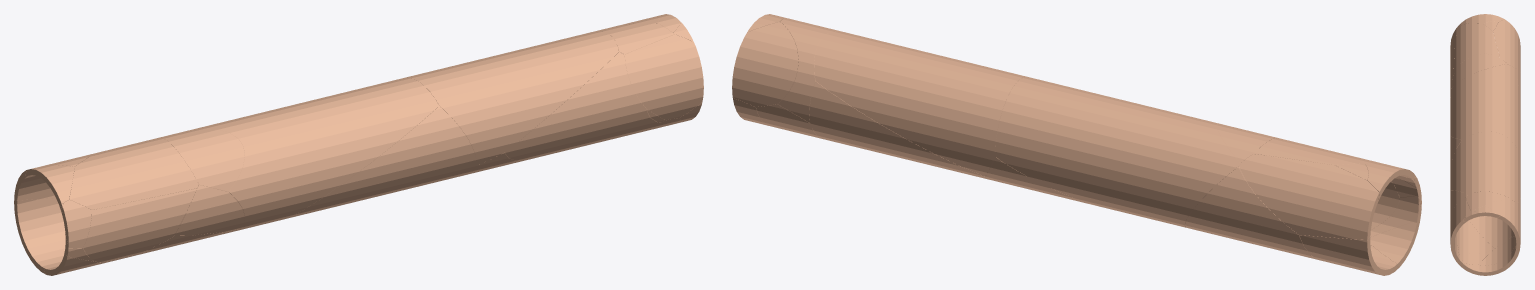
File: pipe_fractured.fbx
3 renders of one model, left to right at view 1: azimuth 30°, elevation 25°; view 2: azimuth 150°, elevation 25°; view 3: azimuth 270°, elevation 25°, orthographic. The views are drawn at different scales.
Parts seen in each view (by area): view 1: Cylinder_cell.024, Cylinder_cell.026, Cylinder_cell.003, Cylinder_cell.020, Cylinder_cell.006, Cylinder_cell.021, Cylinder_cell.011, Cylinder_cell.018, Cylinder_cell.032, Cylinder_cell.031, Cylinder_cell.017, Cylinder_cell.012 (+5 smaller); view 2: Cylinder_cell.024, Cylinder_cell.026, Cylinder_cell.025, Cylinder_cell.029, Cylinder_cell.007, Cylinder_cell.016, Cylinder_cell.017, Cylinder_cell.032, Cylinder_cell.006, Cylinder_cell.027, Cylinder_cell.018, Cylinder_cell.003 (+6 smaller); view 3: Cylinder_cell.024, Cylinder_cell.026, Cylinder_cell.006, Cylinder_cell.020, Cylinder_cell.025, Cylinder_cell.007, Cylinder_cell.018, Cylinder_cell.016, Cylinder_cell.021, Cylinder_cell.017, Cylinder_cell.004, Cylinder_cell.010 (+10 smaller).
Boxes of the visible parts, left/top/right/bottom form: Cylinder_cell.024: left=188, top=77, right=438, bottom=230; Cylinder_cell.026: left=406, top=30, right=618, bottom=165; Cylinder_cell.003: left=287, top=106, right=476, bottom=218; Cylinder_cell.020: left=505, top=52, right=660, bottom=160; Cylinder_cell.006: left=69, top=137, right=198, bottom=209; Cylinder_cell.021: left=624, top=34, right=703, bottom=120; Cylinder_cell.011: left=83, top=188, right=196, bottom=262; Cylinder_cell.018: left=161, top=129, right=244, bottom=191; Cylinder_cell.032: left=14, top=198, right=65, bottom=273; Cylinder_cell.031: left=174, top=185, right=244, bottom=235; Cylinder_cell.017: left=598, top=23, right=674, bottom=54; Cylinder_cell.012: left=61, top=199, right=91, bottom=248; Cylinder_cell.024: left=995, top=76, right=1240, bottom=227; Cylinder_cell.026: left=814, top=31, right=1025, bottom=176; Cylinder_cell.025: left=1239, top=154, right=1379, bottom=239; Cylinder_cell.029: left=1185, top=166, right=1314, bottom=258; Cylinder_cell.007: left=809, top=81, right=985, bottom=178; Cylinder_cell.016: left=732, top=21, right=798, bottom=106; Cylinder_cell.017: left=777, top=17, right=838, bottom=122; Cylinder_cell.032: left=1299, top=235, right=1398, bottom=275; Cylinder_cell.006: left=1254, top=138, right=1397, bottom=178; Cylinder_cell.027: left=1370, top=218, right=1420, bottom=268; Cylinder_cell.018: left=1216, top=123, right=1277, bottom=163; Cylinder_cell.003: left=985, top=157, right=1096, bottom=205; Cylinder_cell.024: left=1450, top=64, right=1520, bottom=160; Cylinder_cell.026: left=1450, top=131, right=1520, bottom=203; Cylinder_cell.006: left=1453, top=23, right=1499, bottom=72; Cylinder_cell.020: left=1450, top=190, right=1493, bottom=253; Cylinder_cell.025: left=1493, top=19, right=1520, bottom=71; Cylinder_cell.007: left=1469, top=199, right=1520, bottom=247; Cylinder_cell.018: left=1451, top=53, right=1506, bottom=88; Cylinder_cell.016: left=1484, top=200, right=1520, bottom=250; Cylinder_cell.021: left=1450, top=197, right=1470, bottom=255; Cylinder_cell.017: left=1465, top=191, right=1520, bottom=237; Cylinder_cell.004: left=1464, top=246, right=1519, bottom=275; Cylinder_cell.010: left=1478, top=236, right=1515, bottom=265.
Size of the model in its own units: 1186 by 177 by 177.
